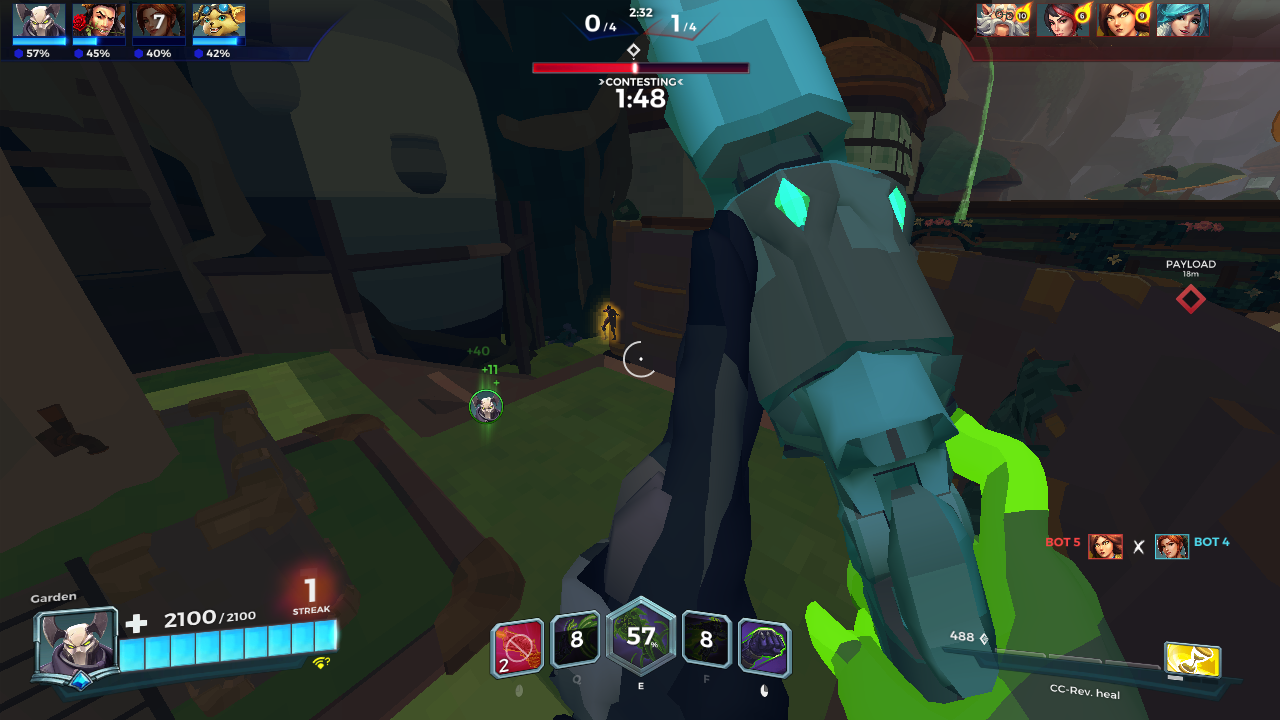model: (594, 296, 623, 346)
